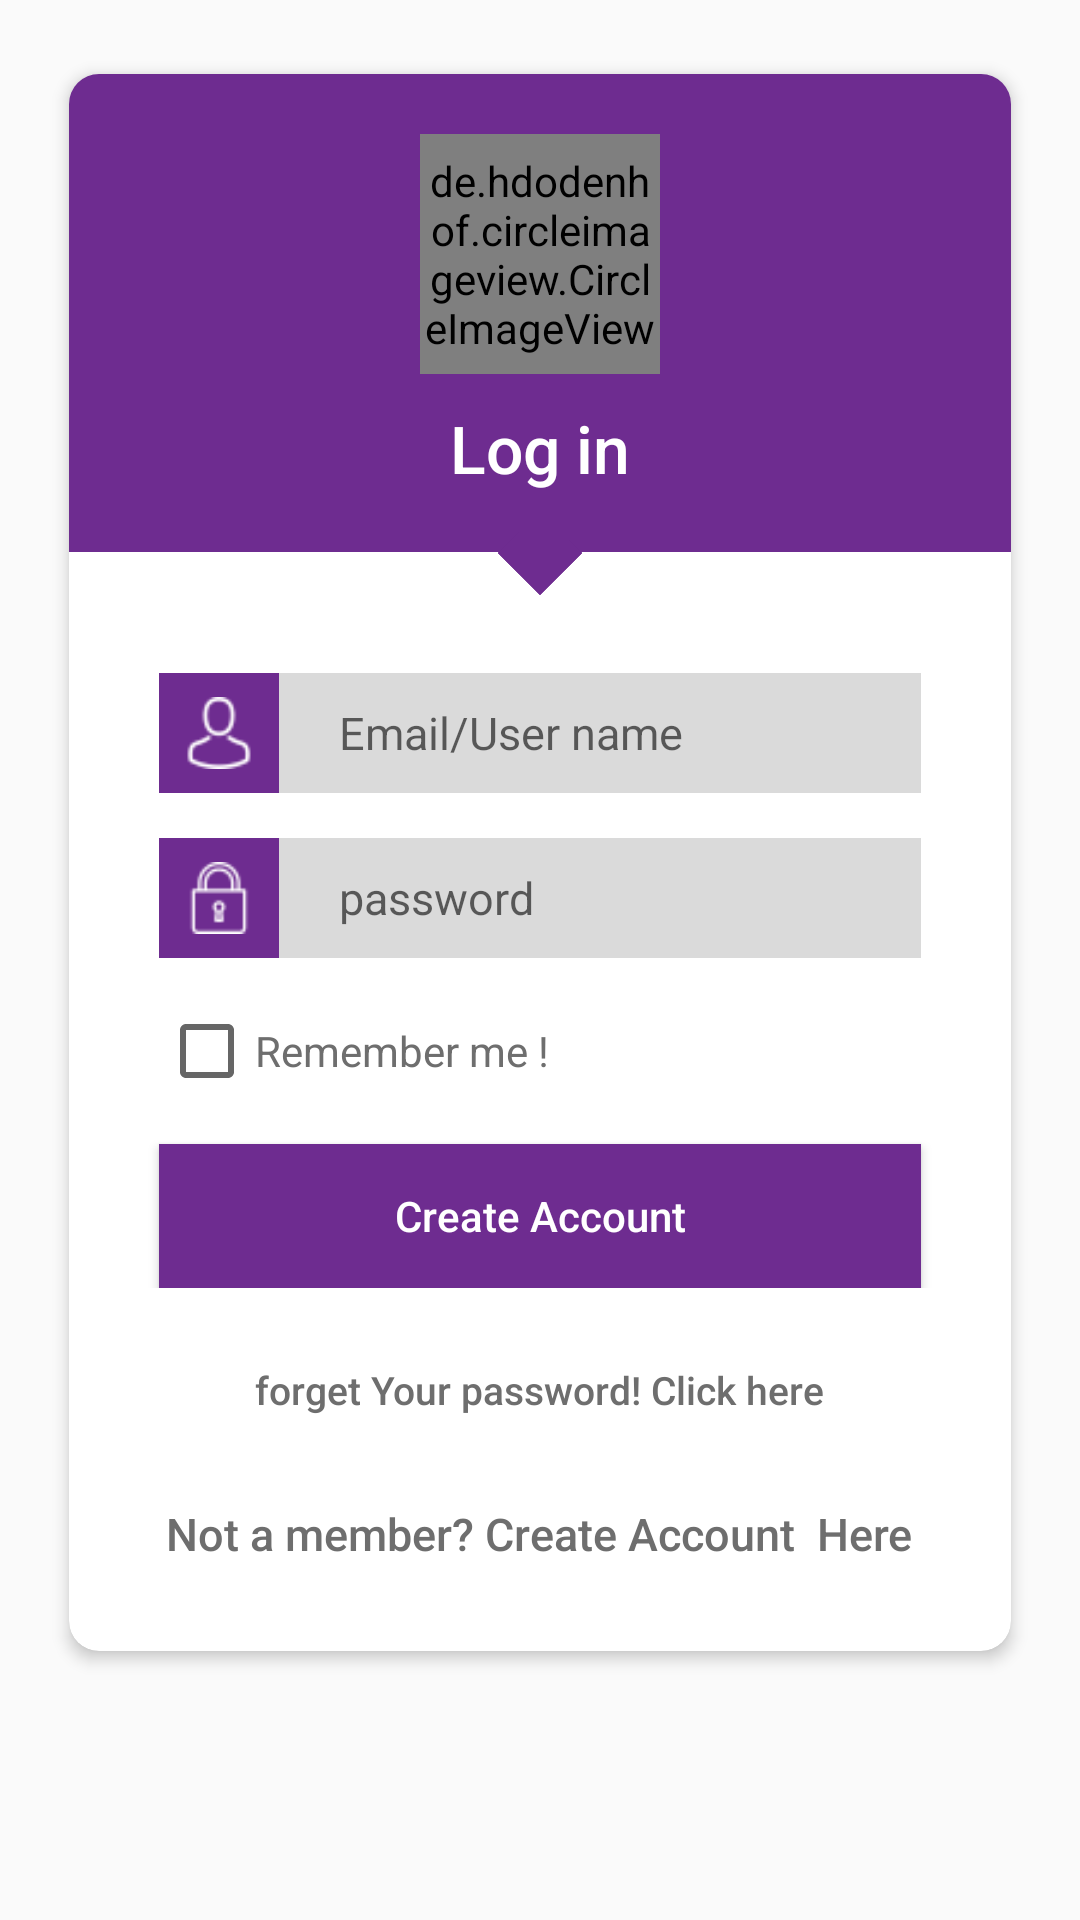

Icon click points for this 1080×1920 phone screenshot, format [x,y]:
lock: [219,898]
